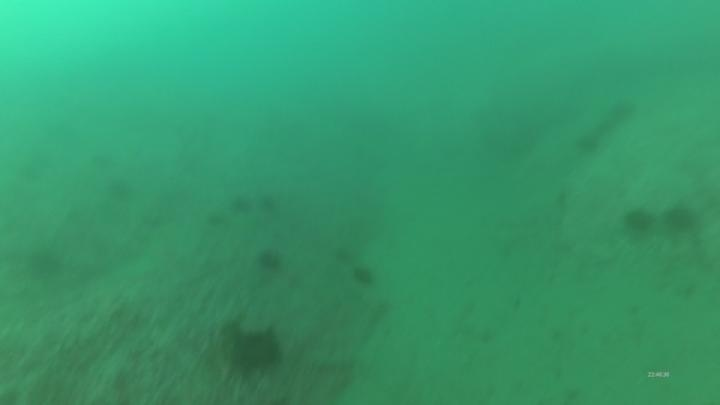echinus: (228, 326, 284, 375), (24, 245, 65, 282), (662, 202, 700, 235), (621, 205, 655, 236), (254, 246, 285, 275), (607, 97, 639, 125), (104, 175, 136, 203), (573, 130, 603, 157), (350, 263, 378, 288), (229, 192, 255, 217), (257, 191, 281, 215), (331, 244, 356, 265), (204, 209, 228, 230)
